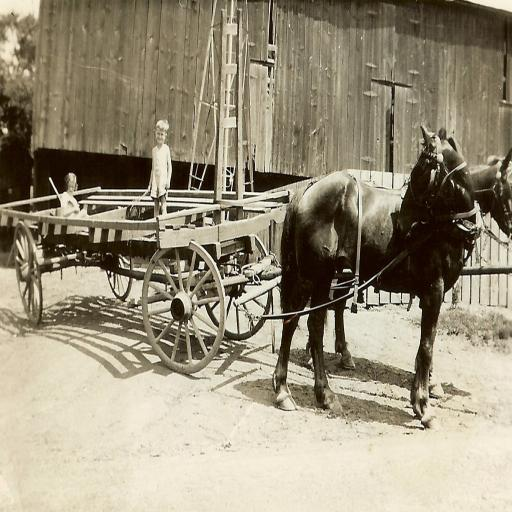horse: (270, 124, 480, 432), (304, 145, 512, 402)
